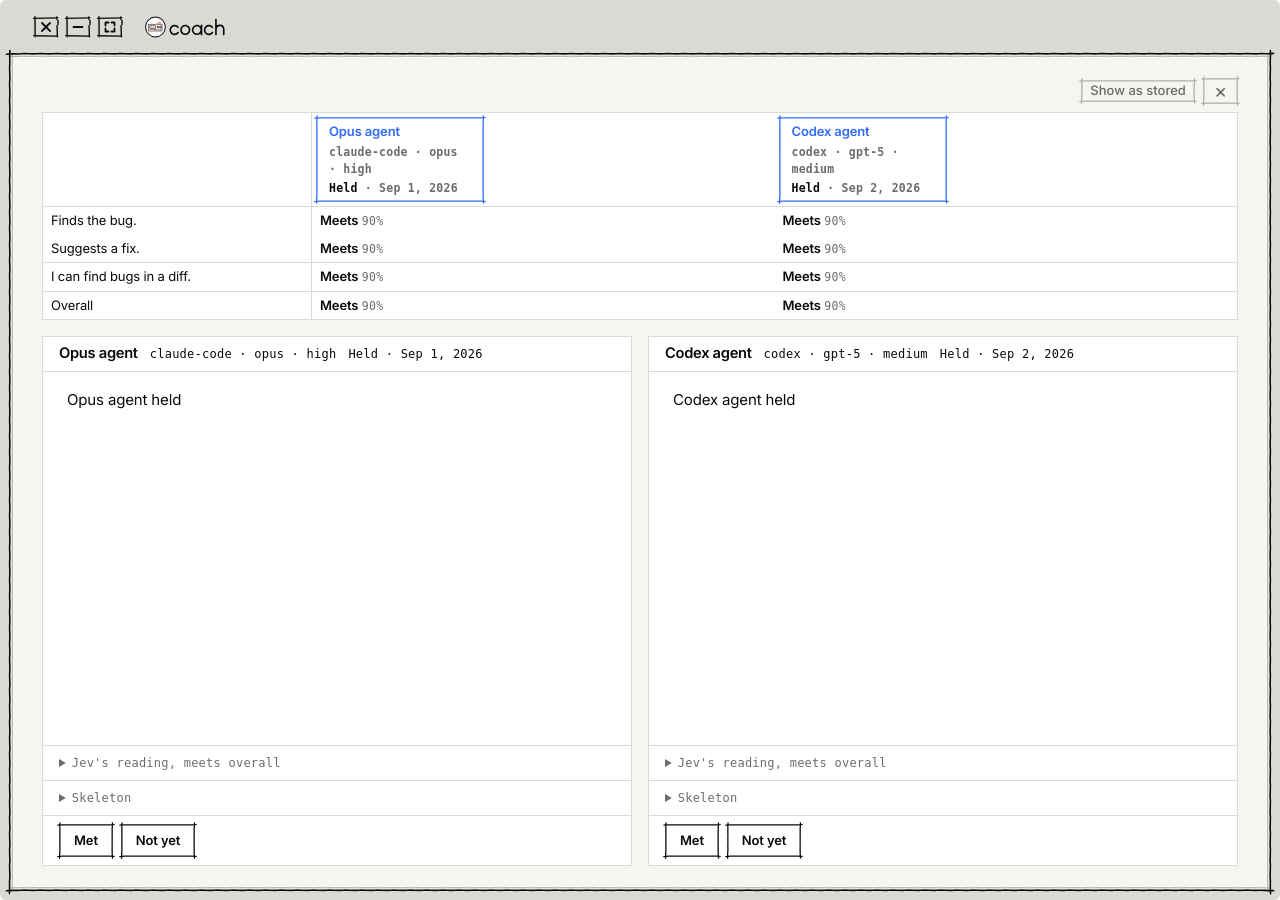
CompareView with Jev's readings › one step at a time: opening one on the left closes the right's; Met on the right leaves the left's open
This screenshot has width=1280, height=900.
Expected: the element named "Jev's calls" is shown, [42,112,1238,320]
Click the 2nd button "Not yet".
click(764, 840)  # box [727,824,801,857]
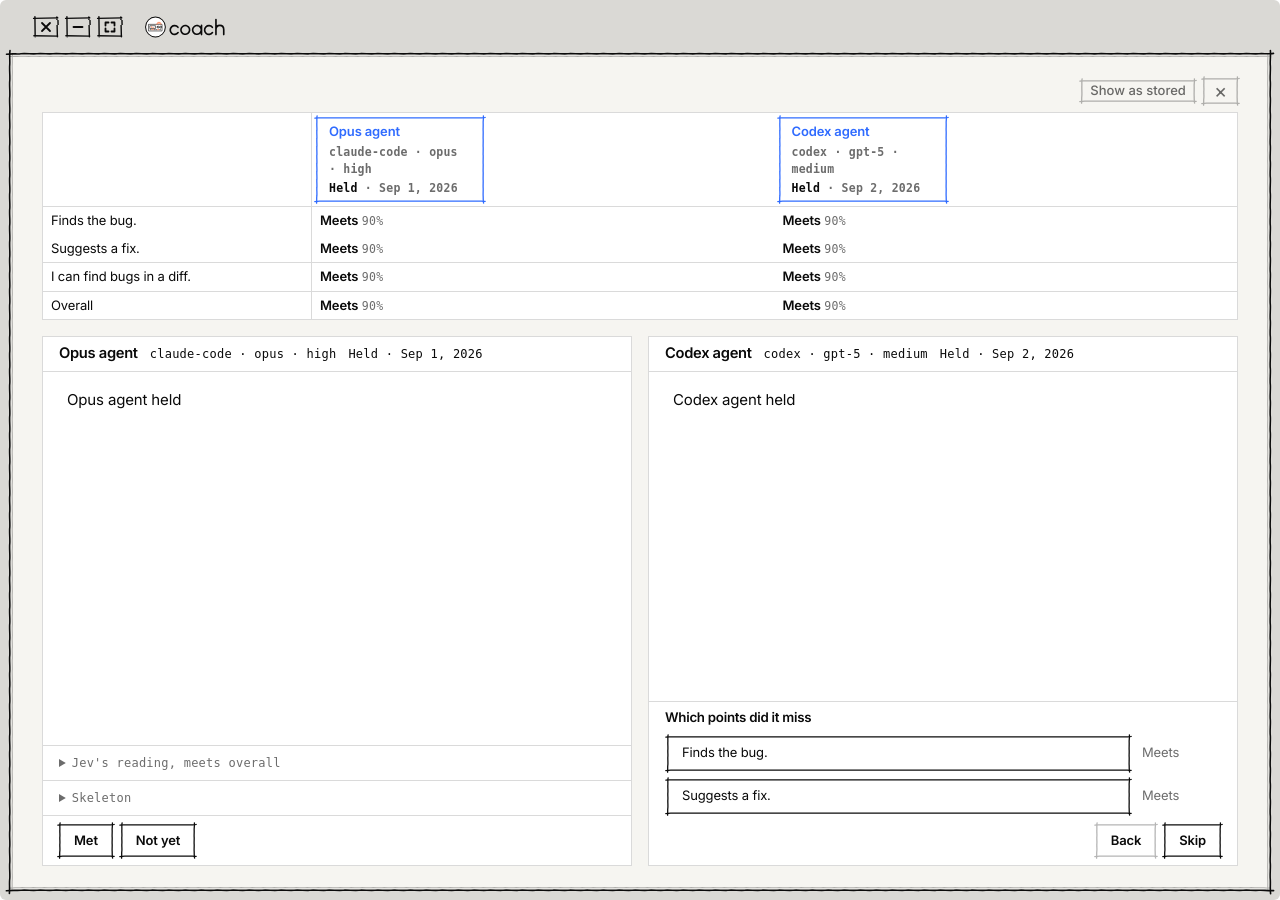
Expected: the heading "Which points did it miss" is shown, [665,709,811,725]
Click the button "Not yet".
click(158, 840)  # box [121,824,195,857]
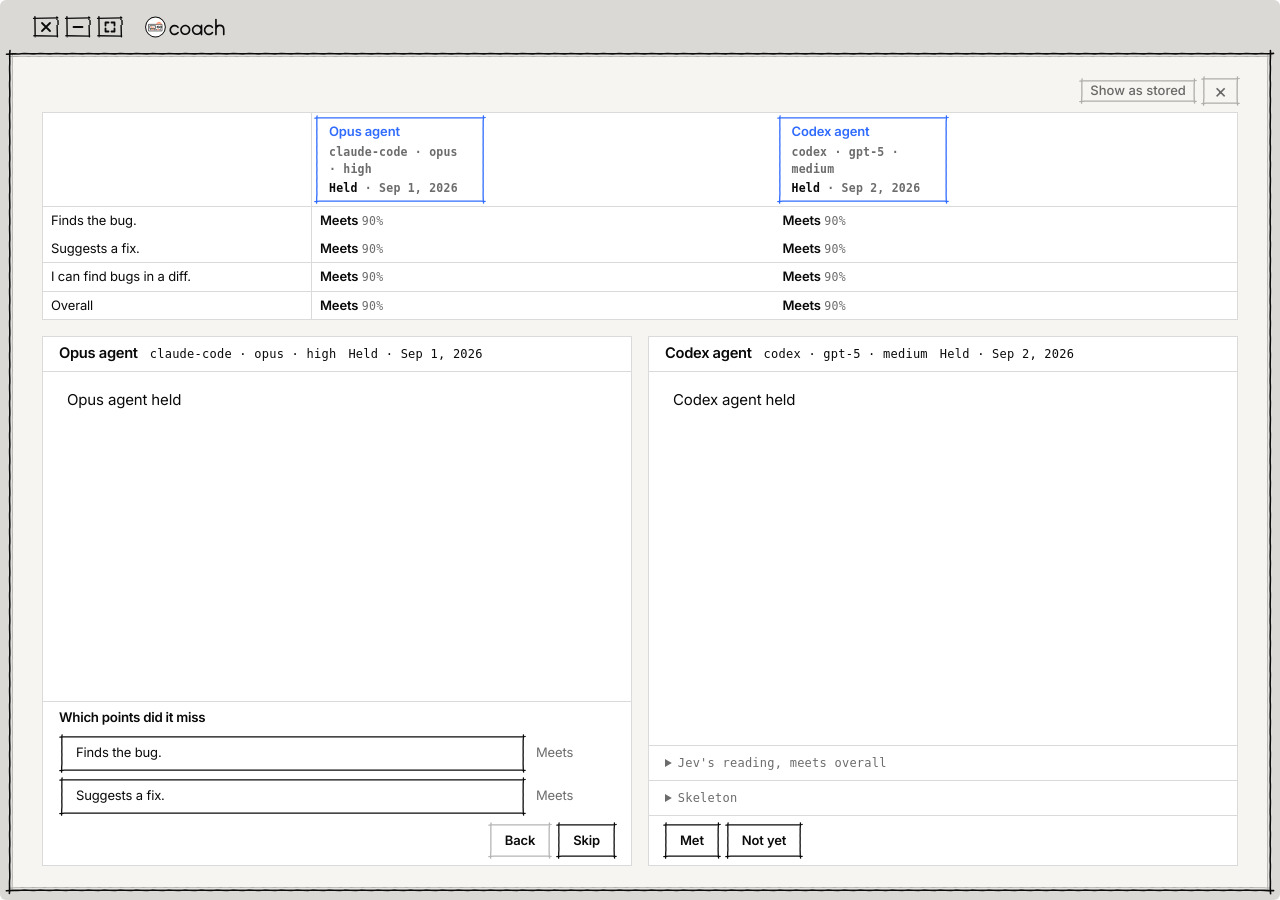
Expected: the heading "Which points did it miss" is shown, [59,709,205,725]
Click the button "Met".
click(692, 840)  # box [665,824,719,857]
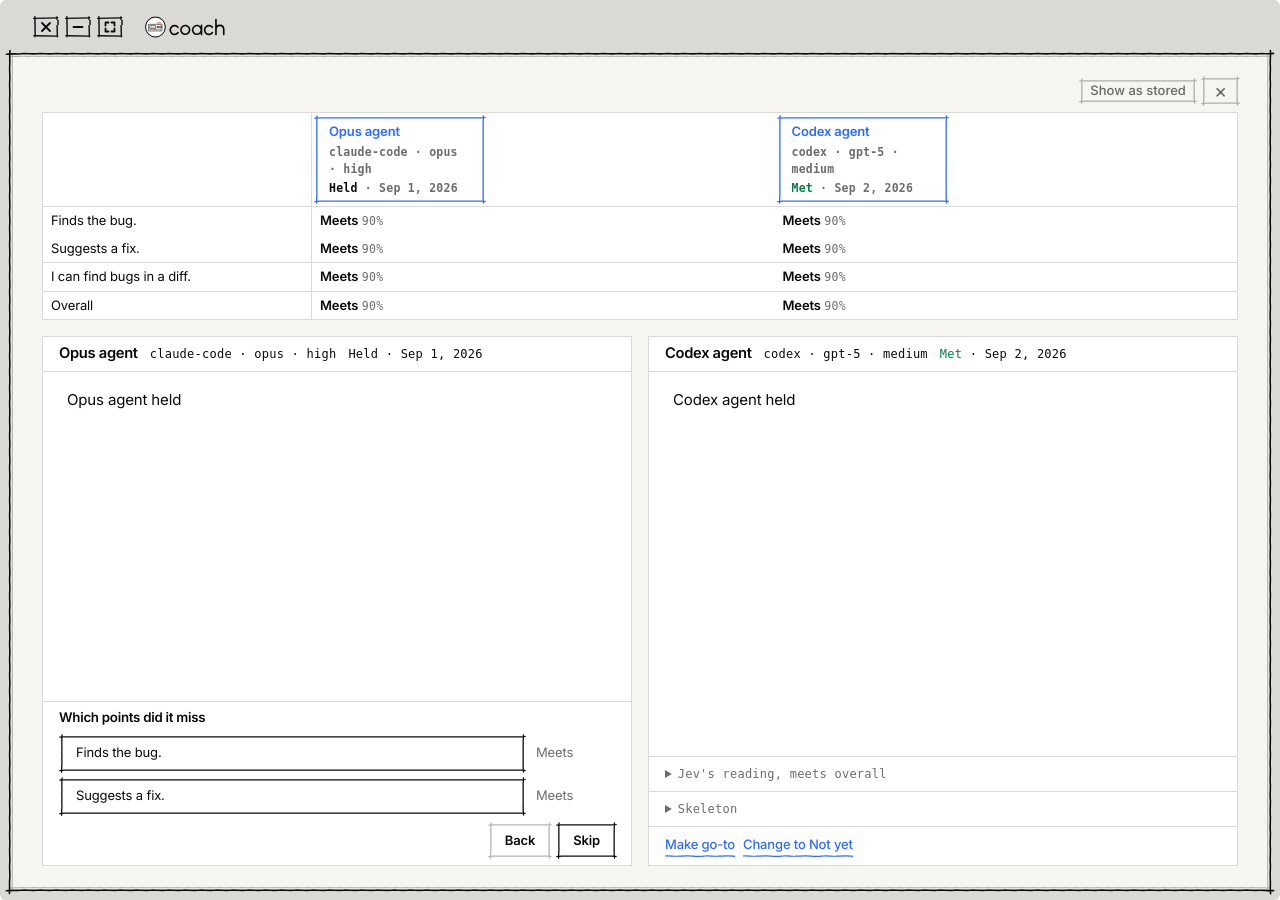
Expected: the heading "Which points did it miss" is shown, [59,709,205,725]
Expected: the 2nd text "Met" is shown, [940,347,962,361]
